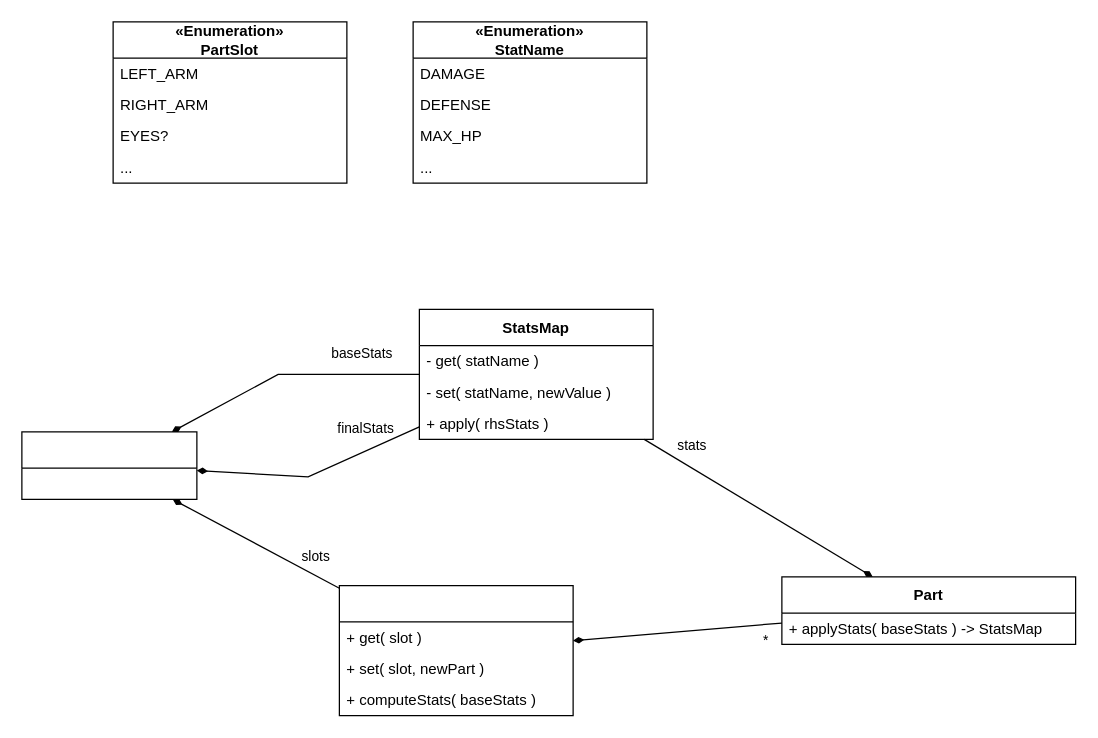
The diagram is 1098 pixels wide and 738 high, and some of its shapes have lost their labels. The box of each missing label's shape, as (x1, y1, x2, y2) in pixels:
PartsSlotsMap: (338, 584, 573, 716)
Player: (21, 431, 197, 499)
